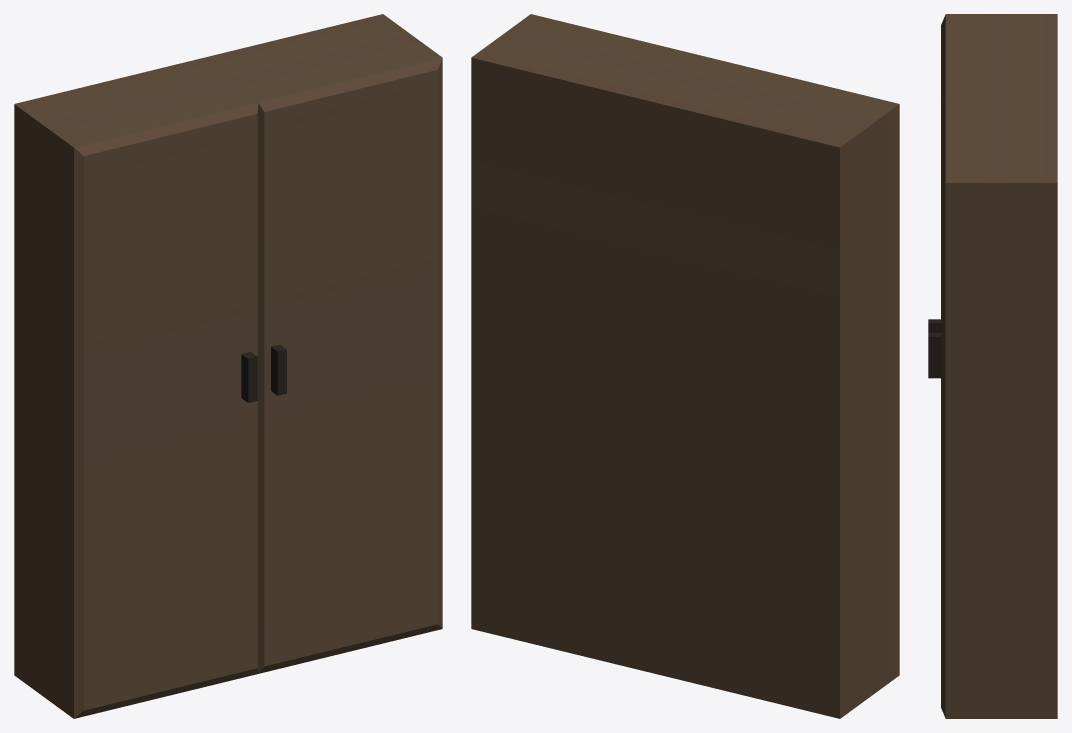
The model's file is WardRobe.fbx.
3 views of the same model, side by side, from view 1: azimuth 30°, elevation 25°; view 2: azimuth 150°, elevation 25°; view 3: azimuth 270°, elevation 25° (orthographic). The views are drawn at different scales.
Parts seen in each view (by area): view 1: pCube831; view 2: pCube831; view 3: pCube831.
Boxes of the visible parts, x1,y1,x2,y2 form: pCube831: [14, 14, 442, 718]; pCube831: [471, 14, 899, 718]; pCube831: [928, 14, 1057, 718].
Bounding box in the file's own units: 250 × 370 × 80.92.
